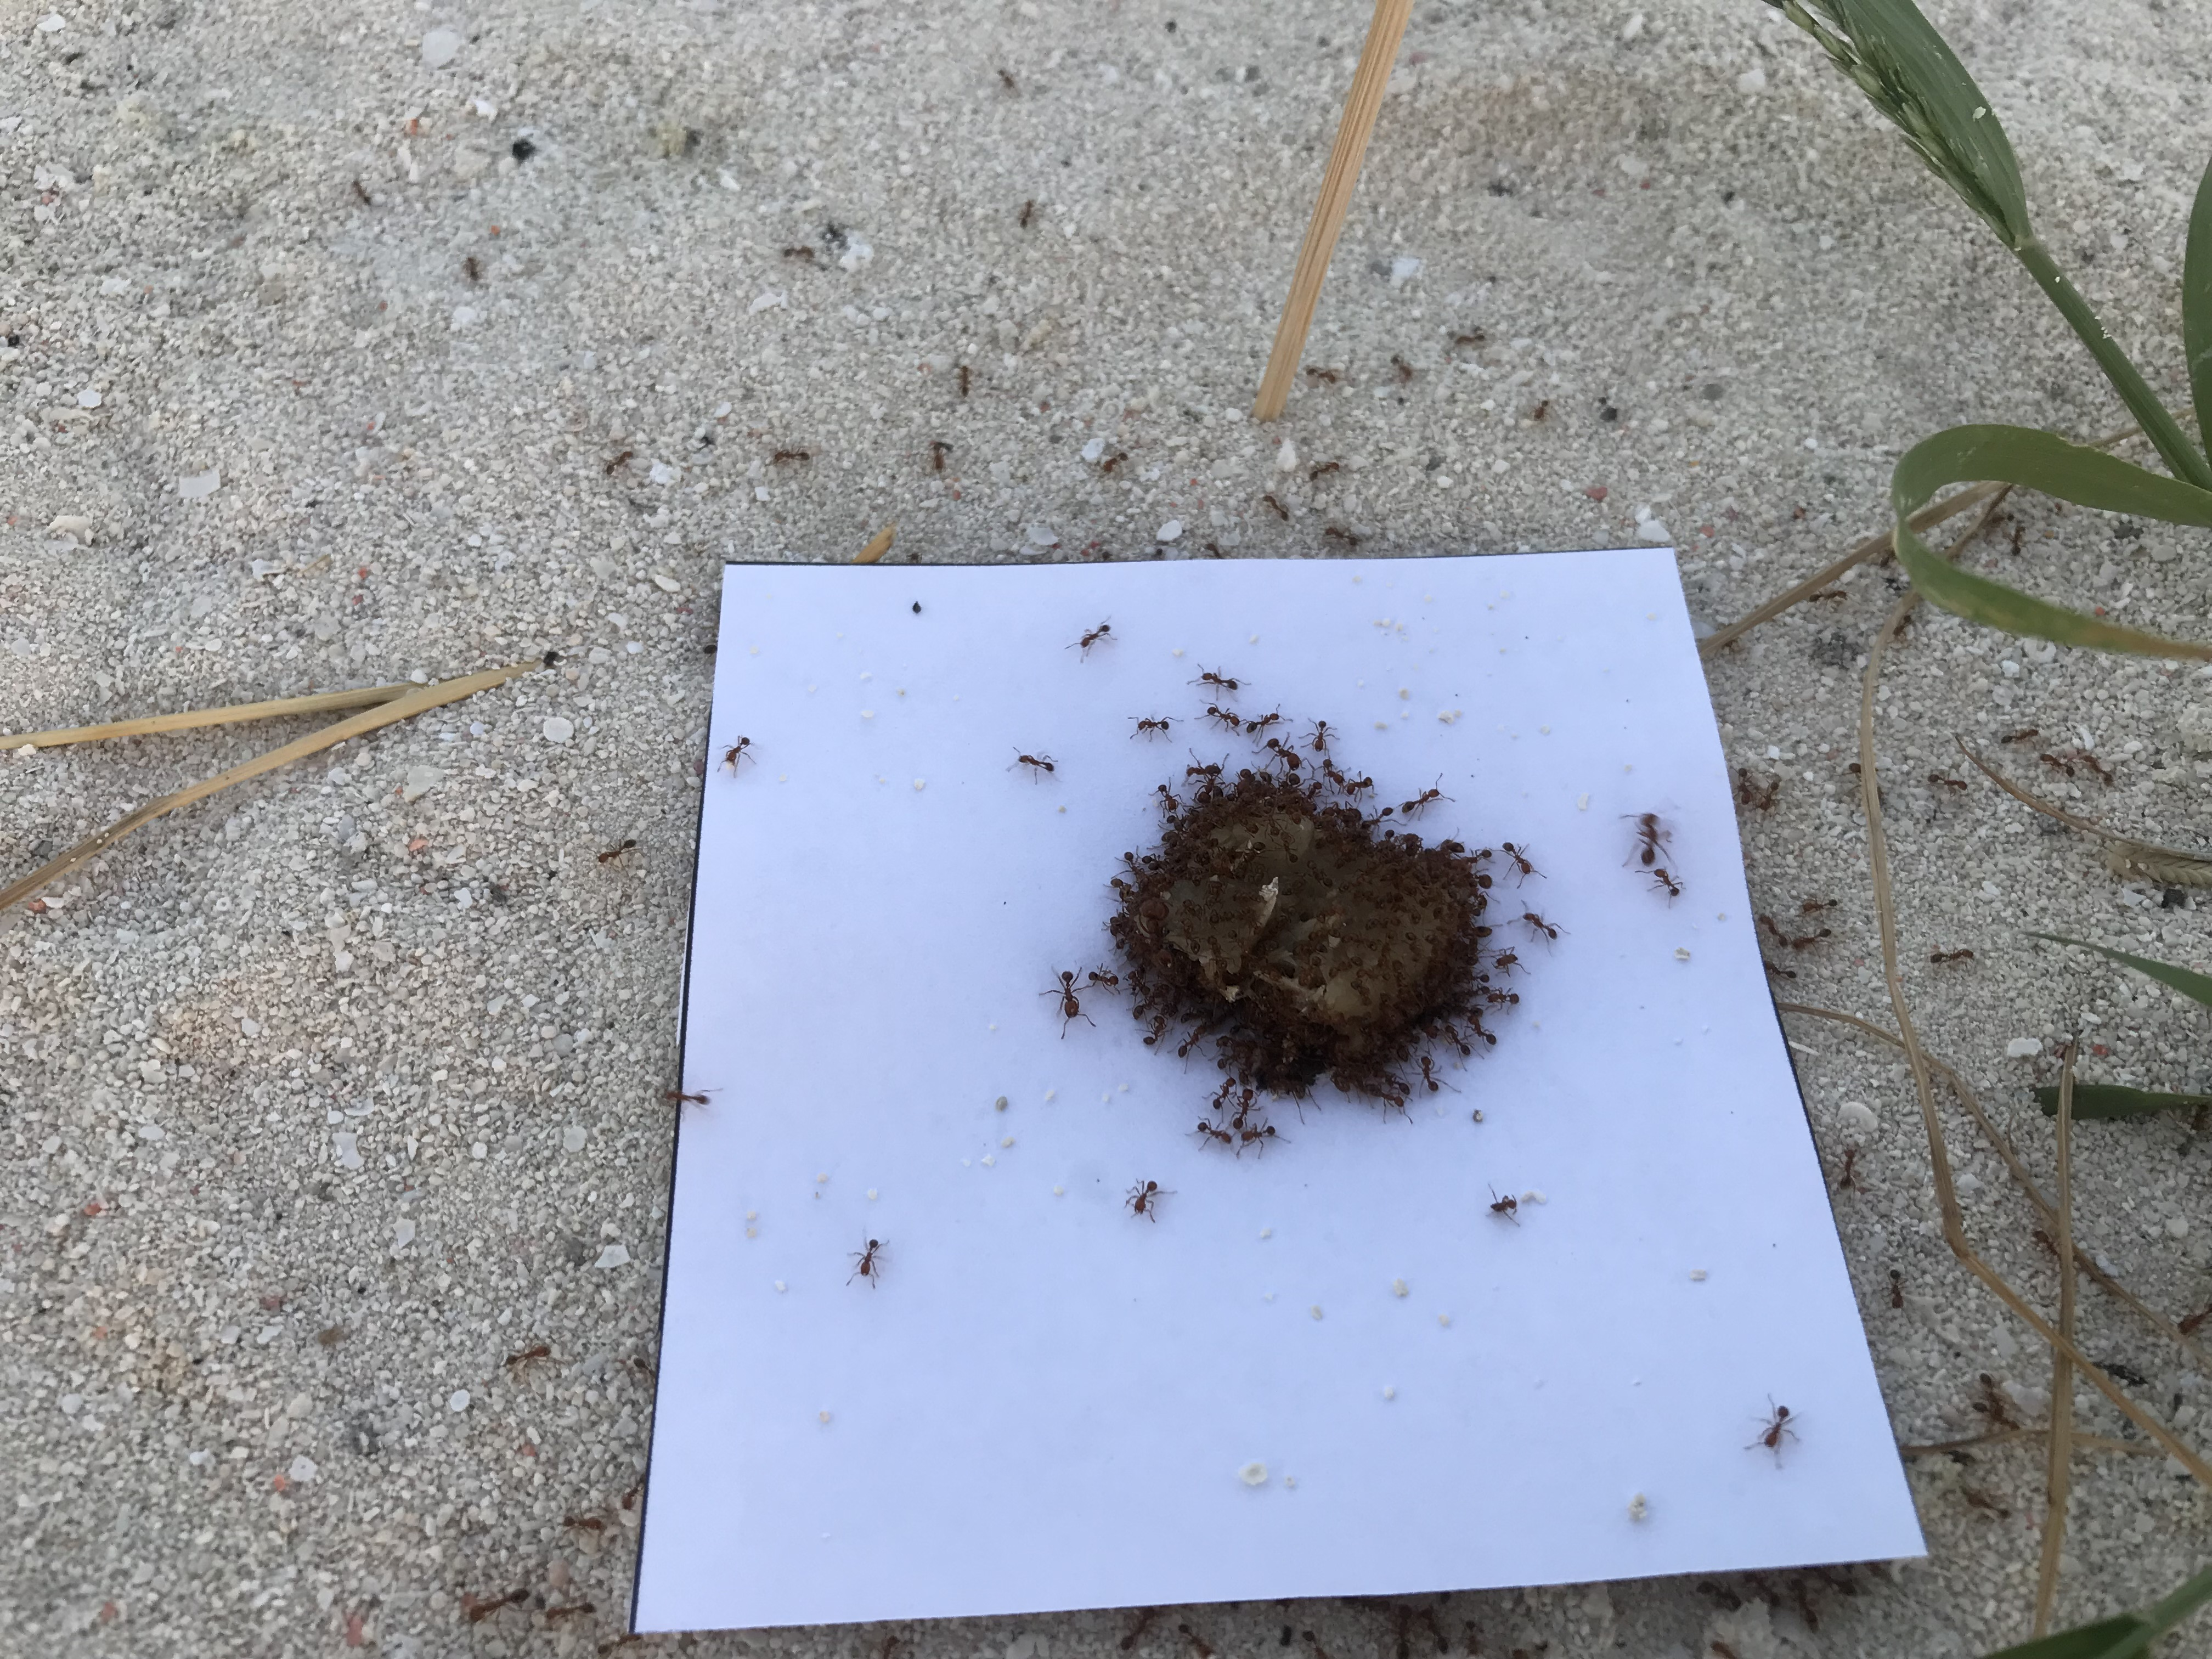Solenopsis_geminata: (482, 1316, 573, 1399)
